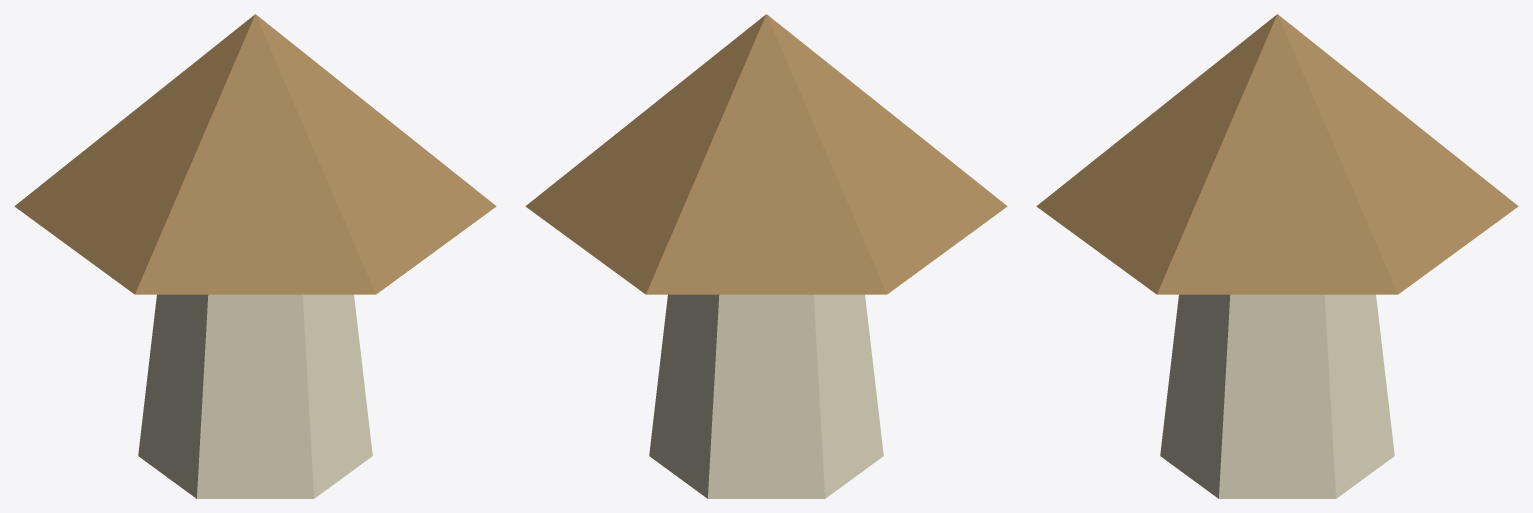
File: Vegetation_New_Mushroom_Brown_01.FBX
3 renders of one model, left to right at view 1: azimuth 30°, elevation 25°; view 2: azimuth 150°, elevation 25°; view 3: azimuth 270°, elevation 25°, orthographic.
Visible parts, largest first — view 1: Vegetation_New_Mushroom_Brown_01; view 2: Vegetation_New_Mushroom_Brown_01; view 3: Vegetation_New_Mushroom_Brown_01.
Part boxes in pixels (x1=…): Vegetation_New_Mushroom_Brown_01: x1=14, y1=14, x2=496, y2=498; Vegetation_New_Mushroom_Brown_01: x1=525, y1=14, x2=1007, y2=498; Vegetation_New_Mushroom_Brown_01: x1=1036, y1=14, x2=1518, y2=498.
Bounding box in the file's own units: 402 × 469 × 464.
